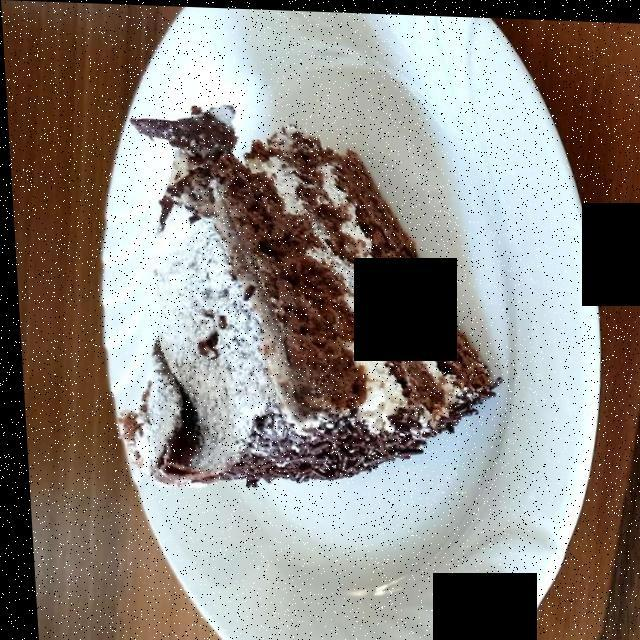tart: (120, 118, 483, 483)
